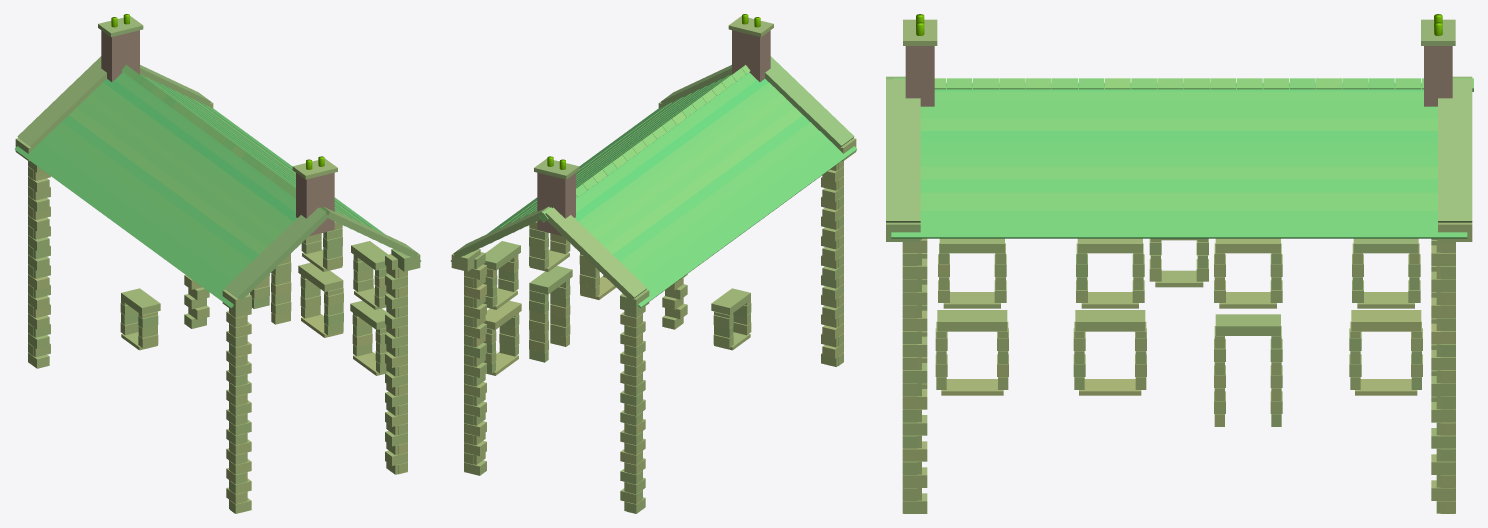
The model's file is SM_Bld_139_Stone.glb.
3 renders of one model, left to right at view 1: azimuth 30°, elevation 25°; view 2: azimuth 150°, elevation 25°; view 3: azimuth 270°, elevation 25°, orthographic. The views are drawn at different scales.
Visible parts, largest first — view 1: SM_Bld_139_Stone; view 2: SM_Bld_139_Stone; view 3: SM_Bld_139_Stone.
Part boxes in pixels (left/top/right/bottom): SM_Bld_139_Stone: left=15, top=14, right=420, bottom=513; SM_Bld_139_Stone: left=451, top=14, right=856, bottom=513; SM_Bld_139_Stone: left=886, top=14, right=1473, bottom=513.
Bounding box in the file's own units: 6.12 × 10.07 × 12.25.
